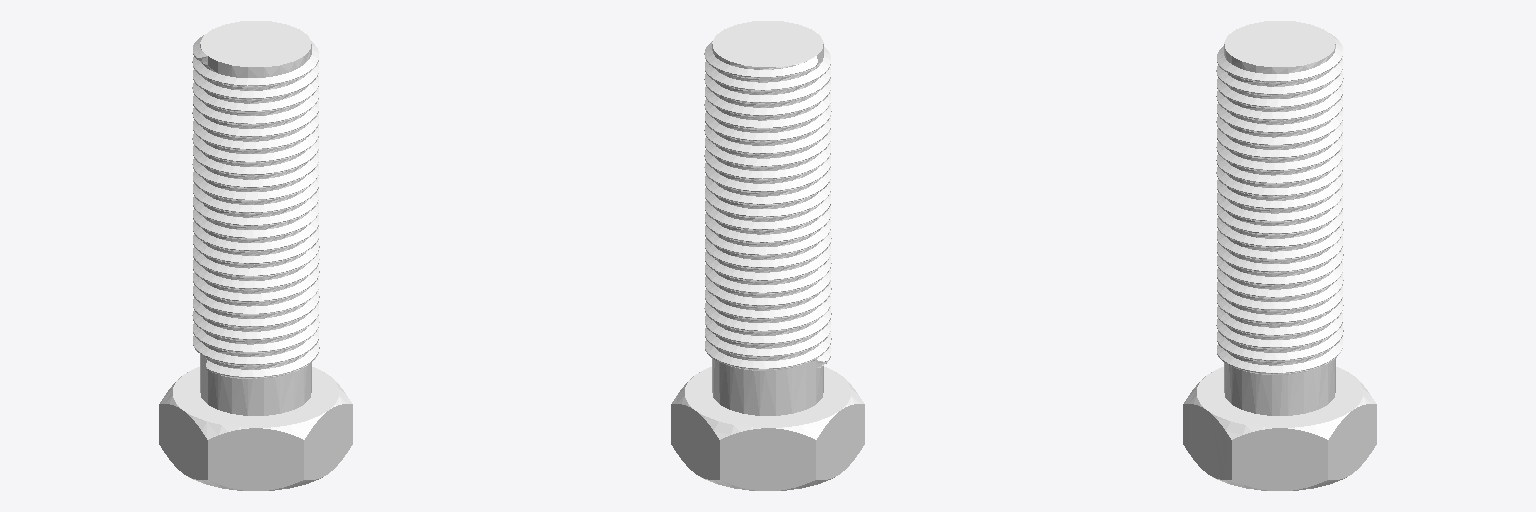
robot.urdf — M8_bolt:
<?xml version="1.0" encoding="utf-8"?>
<!-- This URDF was automatically created by SolidWorks to URDF Exporter! Originally created by [author] ([email redacted]) 
     Commit Version: 1.6.0-4-g7f85cfe  Build Version: 1.6.7995.38578
     For more information, please see http://wiki.ros.org/sw_urdf_exporter -->
<robot
  name="M8_bolt">
  <link
    name="M8_bolt_base_link">
    <inertial>
      <origin
        xyz="-1.7347E-18 -2.8189E-18 -5.2042E-17"
        rpy="0 0 0" />
      <mass
        value="0.0021494" />
      <inertia
        ixx="2.2689E-07"
        ixy="-3.7275E-12"
        ixz="-5.9061E-13"
        iyy="2.2689E-07"
        iyz="-9.9229E-11"
        izz="2.5923E-08" />
    </inertial>
    <visual>
      <origin
        xyz="0 0 0"
        rpy="0 0 0" />
      <geometry>
        <mesh
          filename="package://M8_bolt/meshes/M8_bolt_base_link.dae" />
      </geometry>
      <material
        name="">
        <color
          rgba="1 1 1 1" />
      </material>
    </visual>
    <collision>
      <origin
        xyz="0 0 0"
        rpy="0 0 0" />
      <geometry>
        <mesh
          filename="package://M8_bolt/meshes/M8_bolt_base_link.dae" />
      </geometry>
    </collision>
  </link>
</robot>

--- What the picture shows (computed from the rendered views, not written in the file) ---
The picture shows the robot from 3 angles, left to right: view 1: azimuth 30°, elevation 25°; view 2: azimuth 150°, elevation 25°; view 3: azimuth 270°, elevation 25°; orthographic projection.
Robot: M8_bolt — 1 links, 0 joints (none); root link M8_bolt_base_link; default pose: all joints at 0.
Visible links, largest first — view 1: M8_bolt_base_link; view 2: M8_bolt_base_link; view 3: M8_bolt_base_link.
Boxes of the visible links, left/top/right/bottom form: M8_bolt_base_link: left=159, top=21, right=352, bottom=490; M8_bolt_base_link: left=671, top=21, right=864, bottom=490; M8_bolt_base_link: left=1183, top=21, right=1376, bottom=490.
Size in the robot's own frame: 0.012 by 0.0139 by 0.0325 metres.
1 mesh visuals loaded from 1 distinct referenced files (1 Collada DAE).